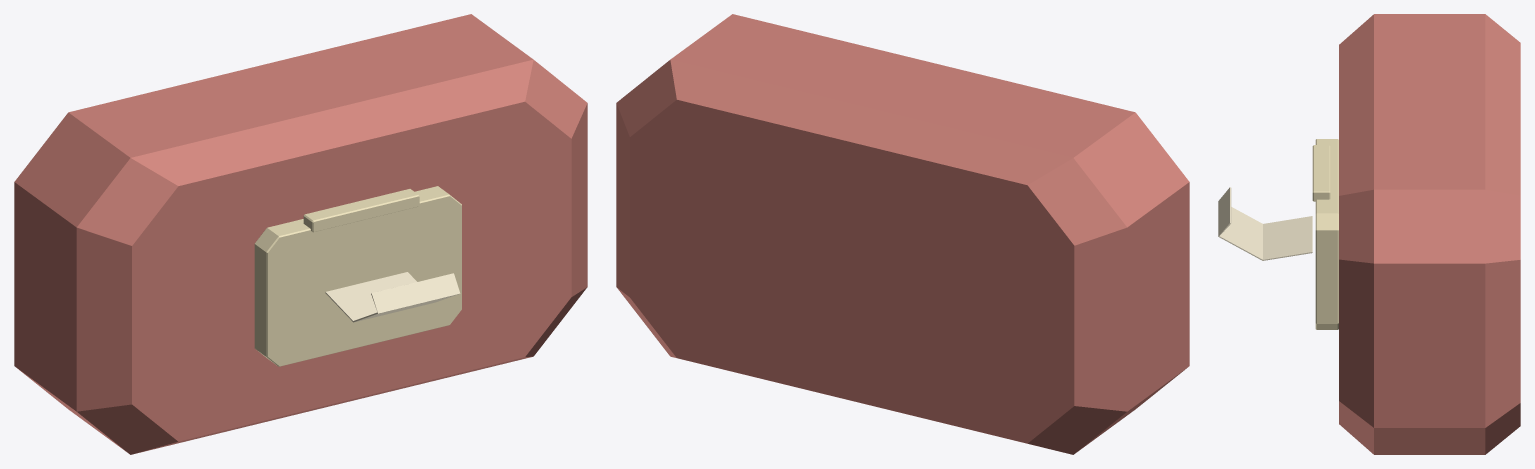
The model's file is baby_wipes.glb.
The picture shows the model from 3 angles, left to right: view 1: azimuth 30°, elevation 25°; view 2: azimuth 150°, elevation 25°; view 3: azimuth 270°, elevation 25°; orthographic projection. The views are drawn at different scales.
Parts seen in each view (by area): view 1: baby_wipes; view 2: baby_wipes; view 3: baby_wipes.
Boxes of the visible parts, bbox=[...] form: baby_wipes: bbox=[14, 14, 587, 454]; baby_wipes: bbox=[616, 14, 1189, 454]; baby_wipes: bbox=[1218, 14, 1520, 454].
Bounding box in the file's own units: 0.18 × 0.1014 × 0.1032.
